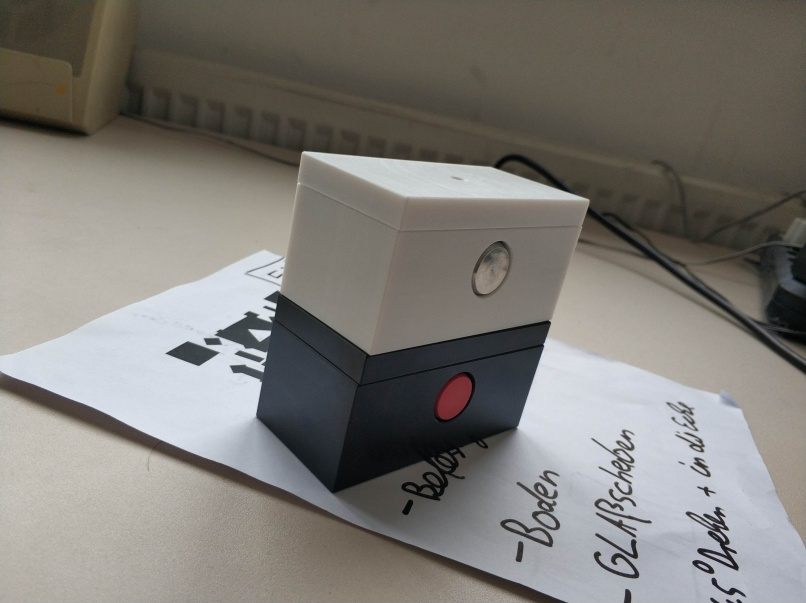black+black+red: (251, 292, 555, 496)
white+white+silver: (276, 148, 589, 355)
